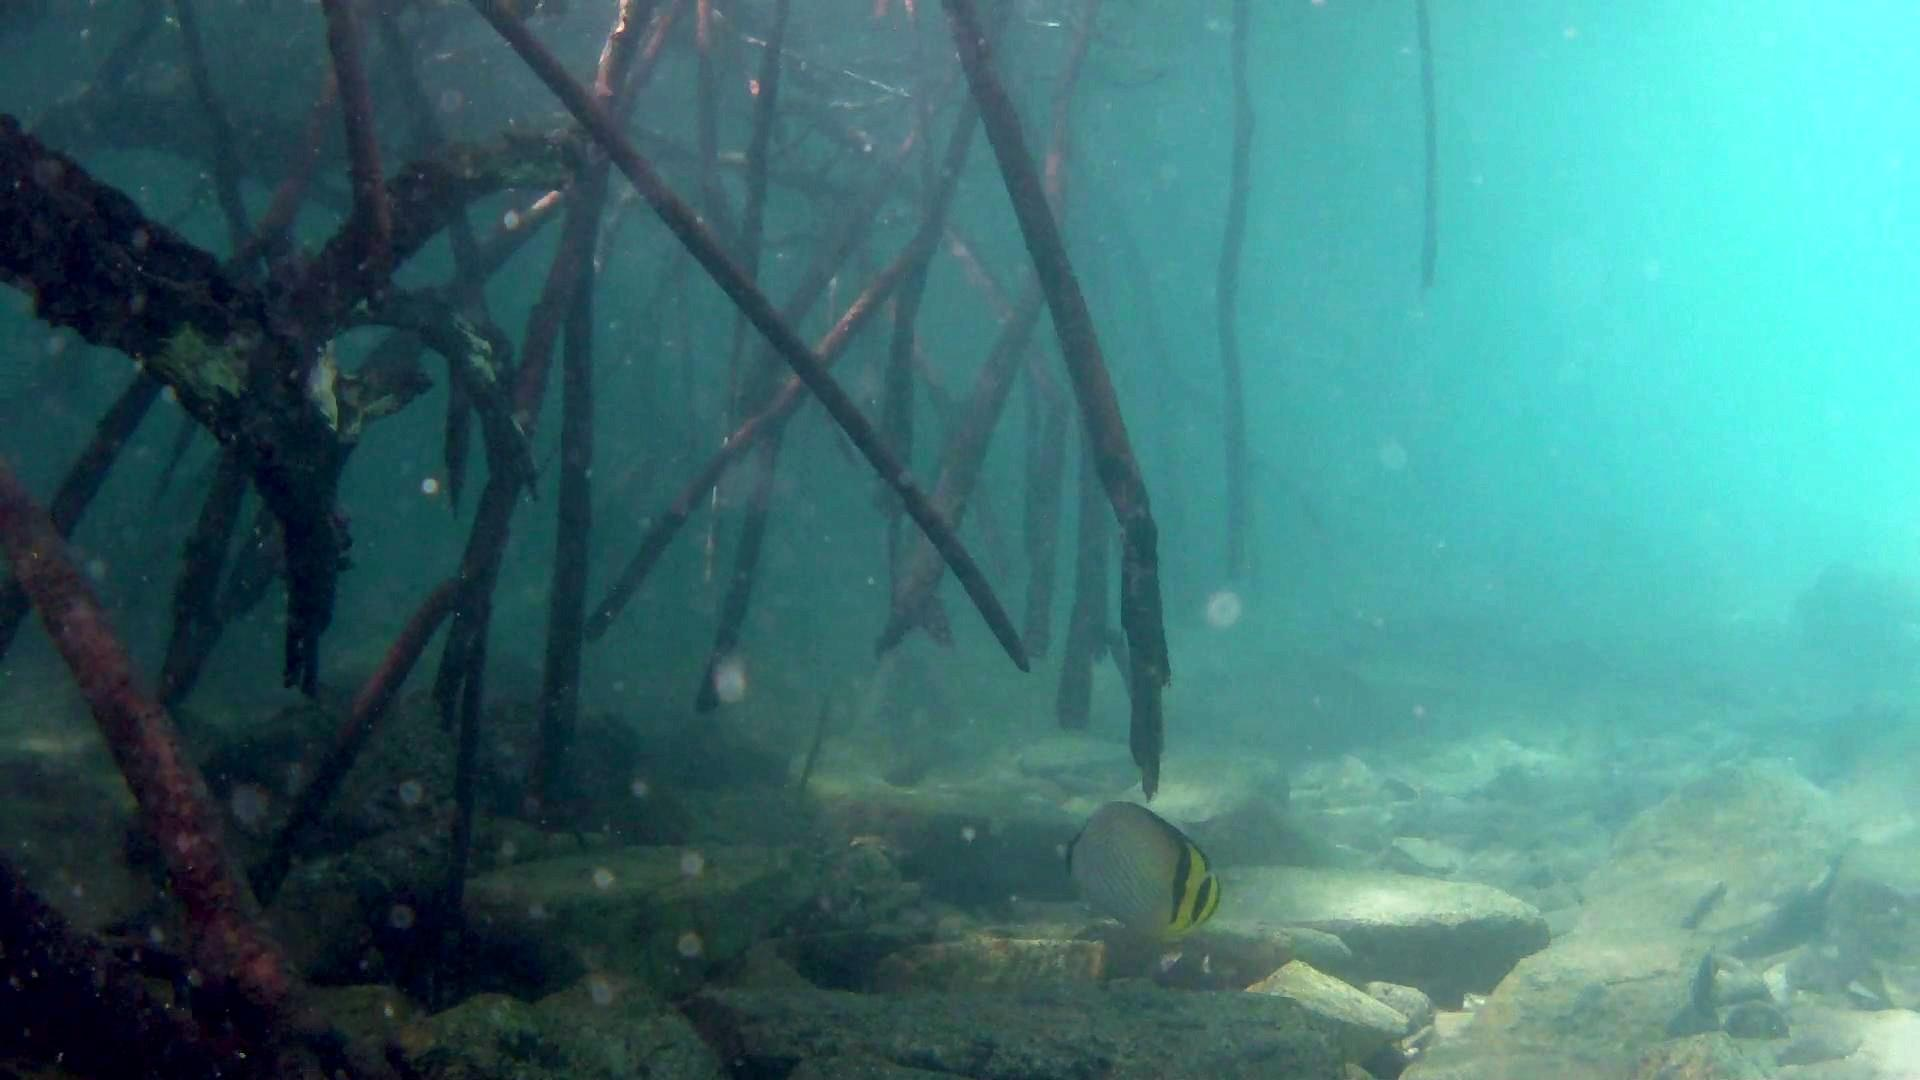chaetodon vagabundus: (1055, 799, 1222, 940)
